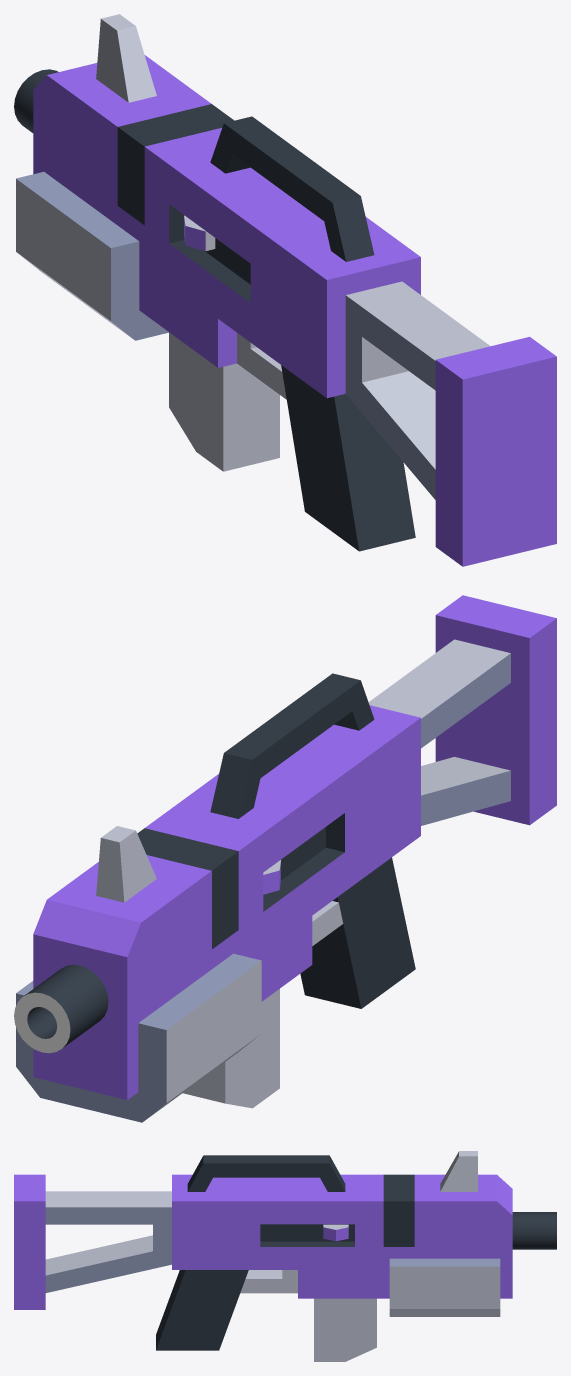
Rendered from blasterD.obj.
3 renders of one model, top to bottom at view 1: azimuth 30°, elevation 25°; view 2: azimuth 150°, elevation 25°; view 3: azimuth 270°, elevation 25°, orthographic. The views are drawn at different scales.
Parts seen in each view (by area): view 1: blasterD; view 2: blasterD; view 3: blasterD.
Boxes of the visible parts, x1,y1,x2,y2 form: blasterD: (14,14,556,566); blasterD: (14,595,556,1122); blasterD: (14,1151,556,1361).
Bounding box in the file's own units: 0.16 × 0.35 × 0.86.
